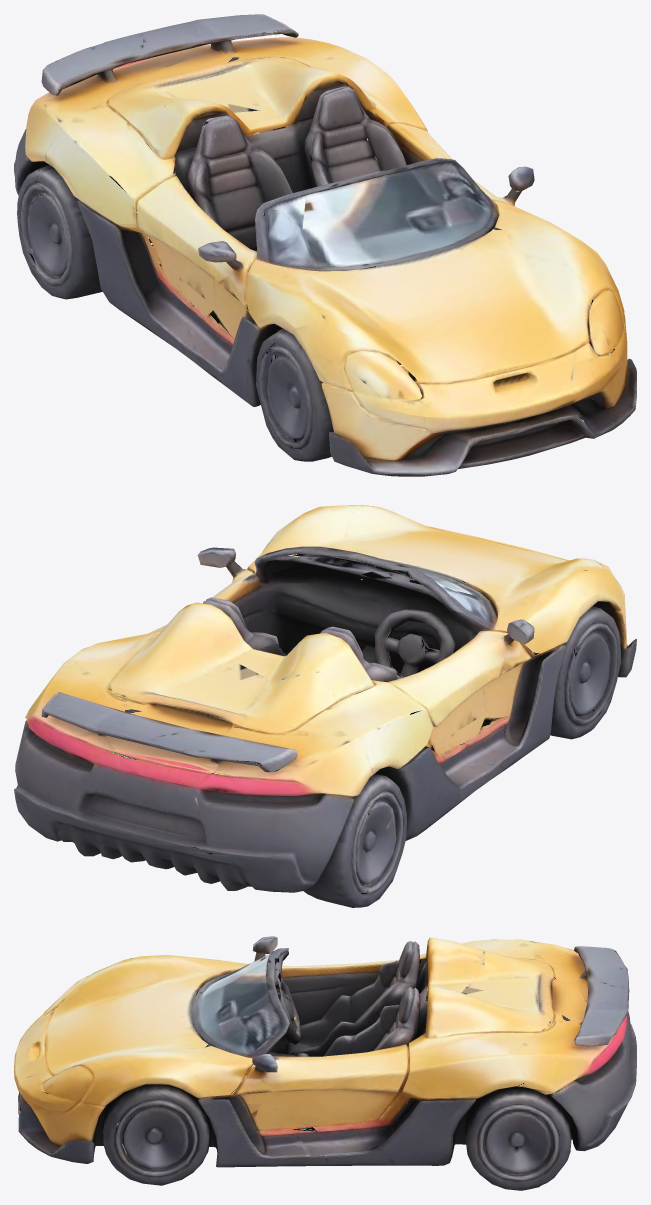
Rendered from bolt-mobile.glb.
3 renders of one model, top to bottom at view 1: azimuth 30°, elevation 25°; view 2: azimuth 150°, elevation 25°; view 3: azimuth 270°, elevation 25°, orthographic. The views are drawn at different scales.
Visible parts, largest first — view 1: model; view 2: model; view 3: model.
Boxes of the visible parts, left/top/right/bottom form: model: left=14, top=14, right=636, bottom=476; model: left=14, top=505, right=636, bottom=907; model: left=14, top=936, right=636, bottom=1190.
Bounding box in the file's own units: 0.9344 × 0.552 × 1.89.
1 material, 1 textured.
